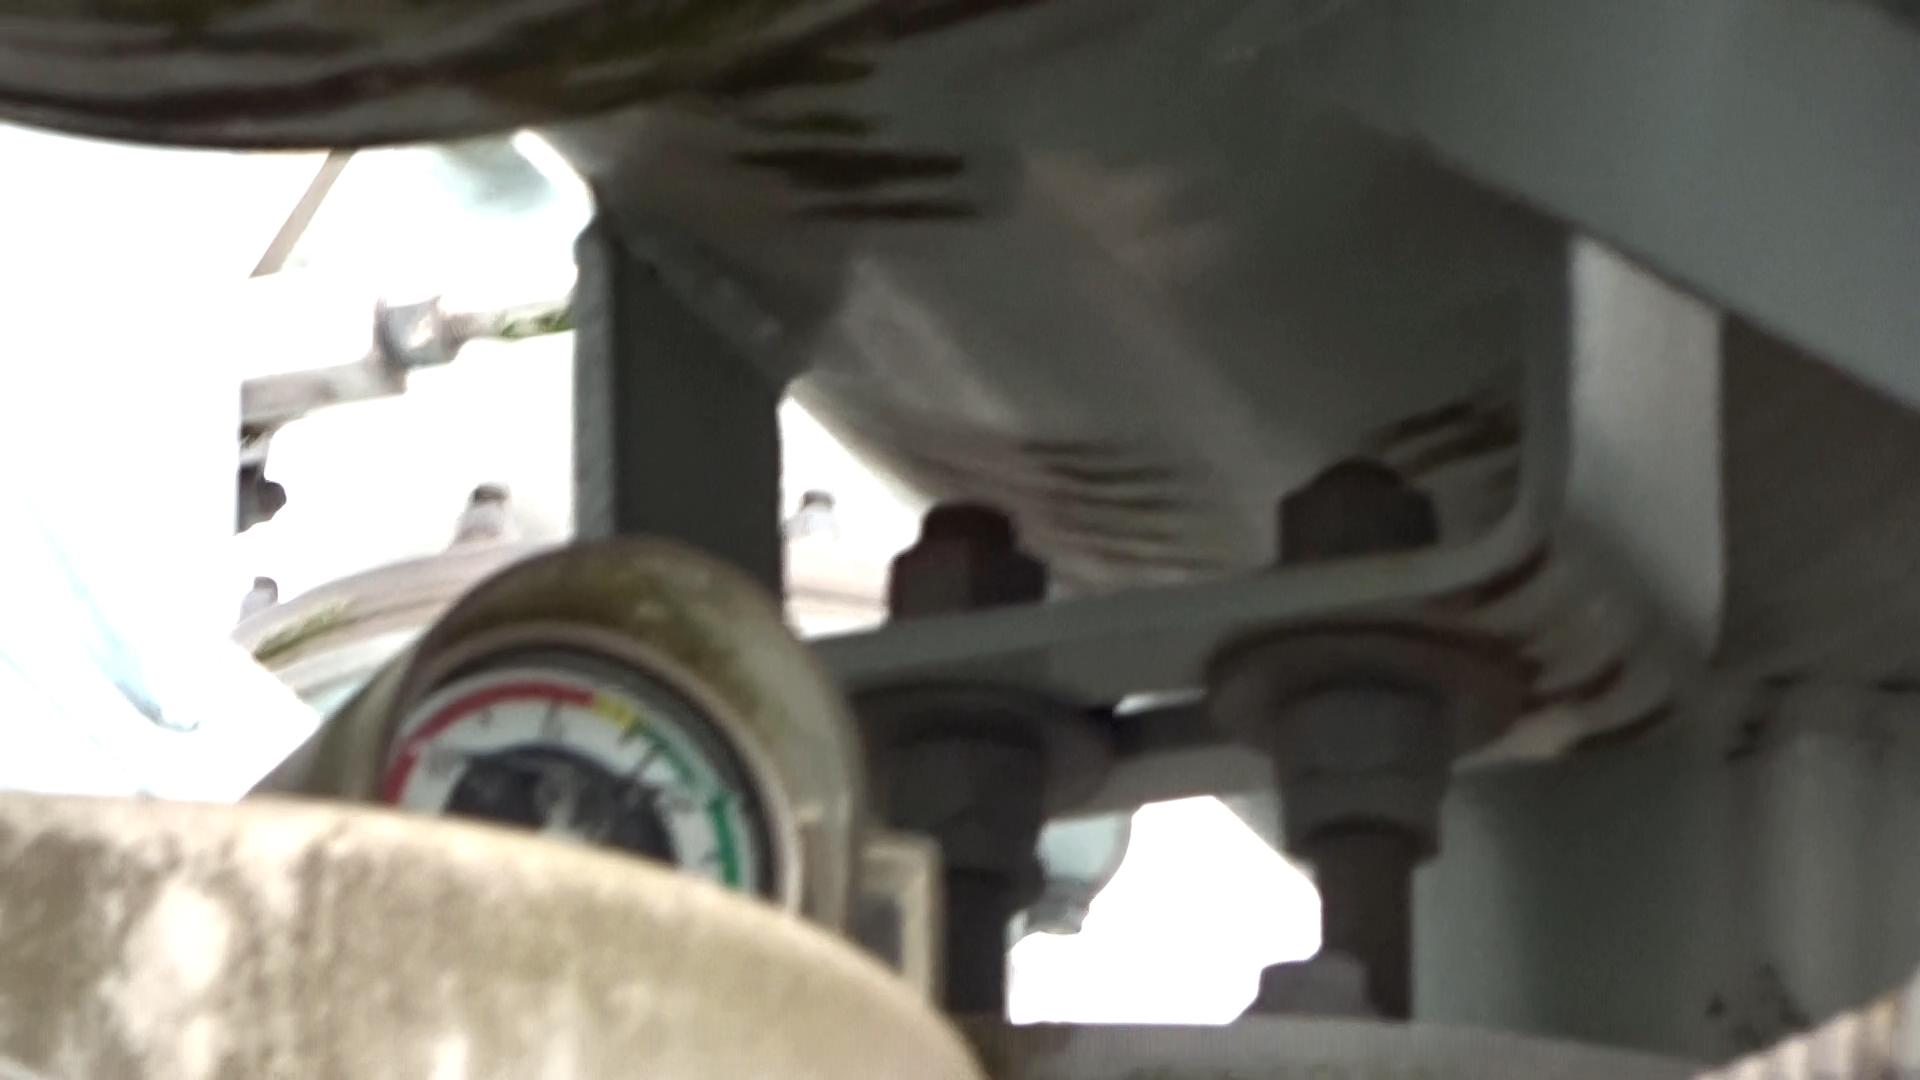instrument: (365, 629, 775, 907)
